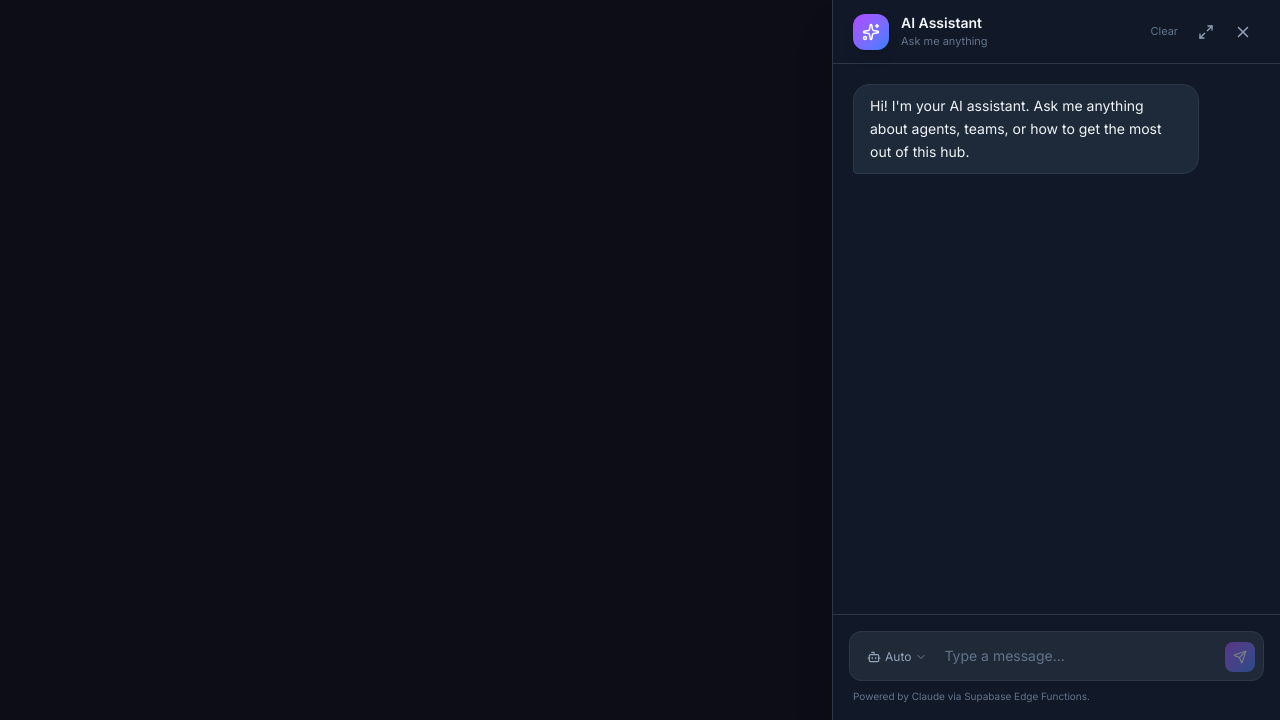
Test: AiAssistant › streams an assistant reply from the session
Type "Hi there" into the field with placeholder "Type a message..." at x=1081, y=656, box 944,640 -> 1217,672
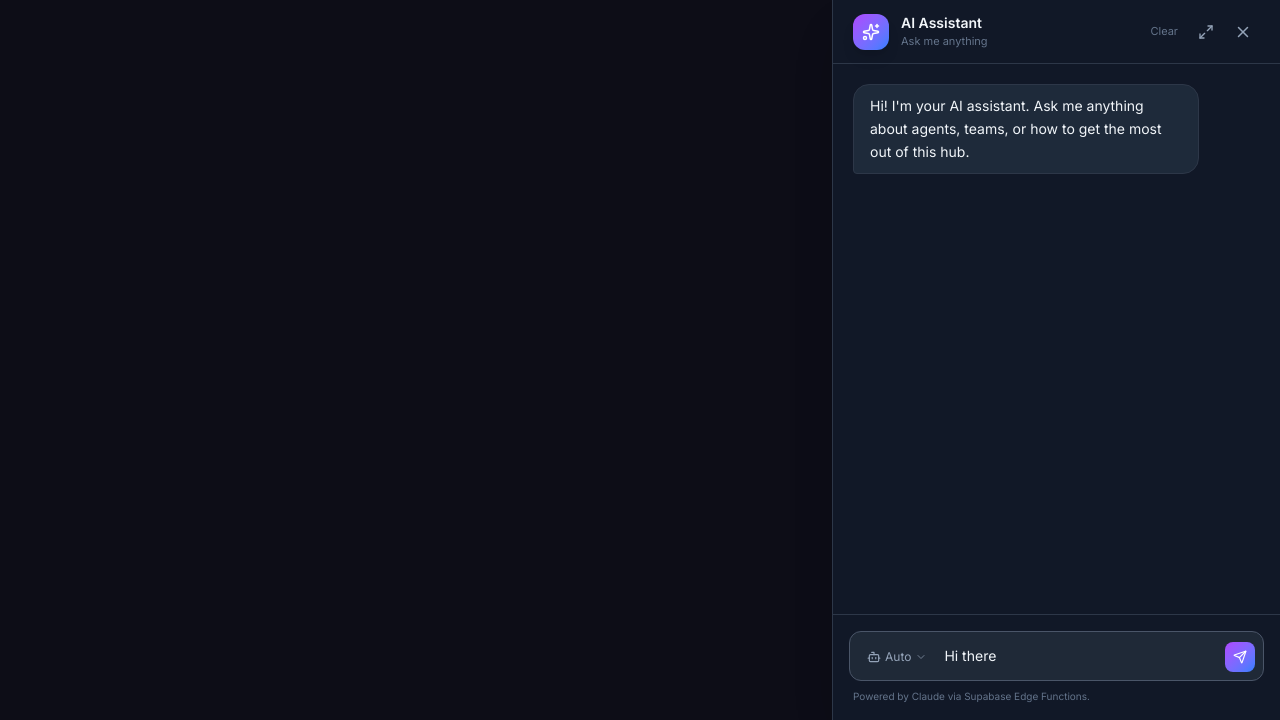
Click the button named "Send message" at x=1240, y=657, box 1225,642 -> 1255,672
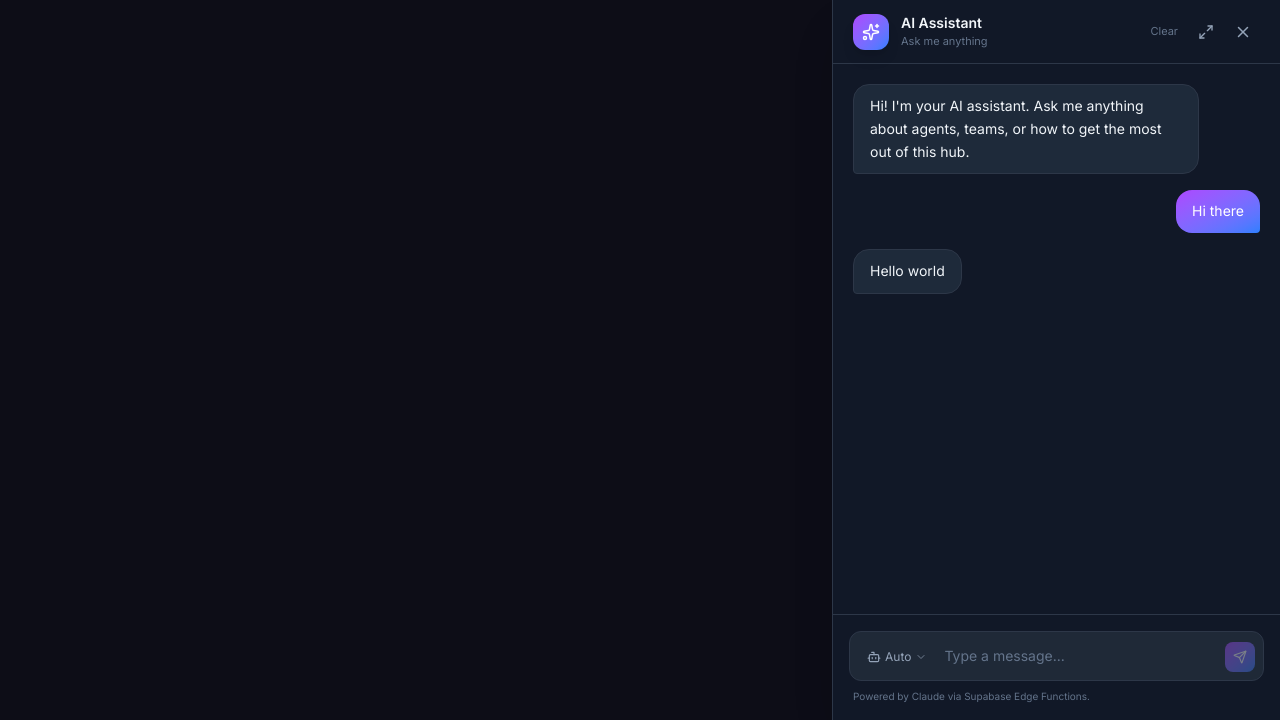
Result: the text "Hi there" is shown at 1176,190 -> 1260,233
Result: the text "Hello world" is shown at 870,260 -> 945,283
